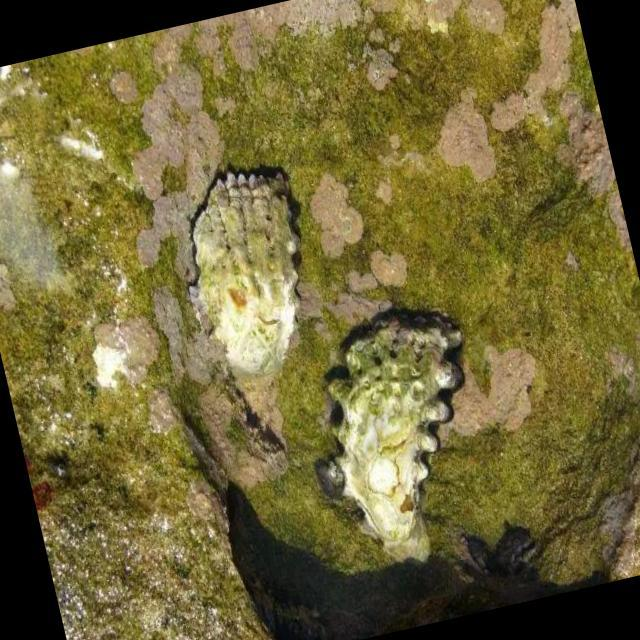Oyster- Indeterminate: (284, 304, 506, 584), (160, 152, 333, 389)
